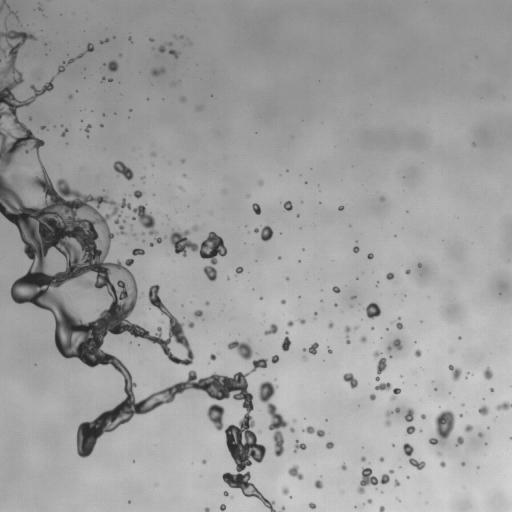droplet: (169, 225, 227, 281), (357, 467, 389, 494), (227, 340, 253, 360), (375, 382, 401, 401), (254, 225, 273, 241), (365, 302, 380, 318), (342, 373, 357, 388), (288, 465, 303, 479), (303, 342, 318, 354), (449, 365, 461, 380), (264, 324, 278, 335), (496, 401, 511, 410), (294, 441, 306, 452), (404, 408, 413, 422), (107, 60, 118, 71), (478, 405, 489, 415), (483, 367, 492, 379), (151, 68, 164, 76), (392, 339, 402, 349), (252, 203, 260, 214), (132, 248, 144, 255), (283, 201, 292, 210), (406, 425, 415, 434), (169, 50, 179, 58), (133, 190, 143, 198), (0, 0, 7, 11), (464, 424, 472, 432), (314, 480, 322, 488), (456, 436, 463, 445), (235, 266, 243, 273), (386, 272, 394, 279), (332, 286, 340, 293), (194, 310, 202, 317), (414, 349, 421, 357), (271, 355, 278, 363), (282, 486, 289, 494), (158, 45, 165, 52), (326, 442, 333, 449), (61, 129, 67, 137), (396, 321, 402, 329), (360, 336, 366, 343), (369, 393, 375, 400), (439, 461, 446, 467), (309, 502, 316, 508), (85, 124, 90, 132), (353, 246, 359, 252), (367, 253, 373, 259), (188, 321, 194, 327), (287, 320, 293, 326), (210, 354, 216, 360), (298, 319, 305, 324), (341, 463, 346, 470), (394, 479, 399, 486), (220, 504, 225, 511), (328, 322, 333, 328), (405, 269, 410, 274), (327, 348, 332, 353), (478, 432, 483, 437), (379, 506, 384, 511), (41, 125, 47, 129), (180, 97, 185, 101), (258, 181, 263, 185), (338, 206, 343, 210), (387, 346, 391, 351), (421, 414, 425, 419), (361, 456, 365, 461), (367, 499, 372, 503), (279, 507, 284, 511), (101, 77, 105, 81), (149, 242, 153, 246), (281, 299, 285, 303), (205, 301, 209, 305), (290, 428, 294, 432), (379, 457, 383, 461), (202, 459, 206, 463), (461, 462, 465, 466), (389, 469, 393, 473), (205, 507, 209, 511), (9, 10, 13, 13), (128, 37, 131, 41), (108, 78, 112, 81), (152, 152, 155, 156), (417, 263, 421, 266), (150, 38, 153, 41), (168, 42, 171, 45), (141, 176, 144, 179), (380, 197, 383, 200), (351, 296, 354, 299), (354, 326, 357, 329), (490, 388, 493, 391), (69, 95, 71, 98), (472, 143, 475, 145), (182, 159, 184, 162), (183, 174, 185, 177), (142, 232, 144, 235), (286, 277, 288, 280), (260, 296, 262, 299), (334, 303, 336, 306), (303, 356, 305, 359), (459, 414, 462, 416), (39, 8, 41, 10), (198, 107, 200, 109), (100, 124, 102, 126), (180, 187, 182, 189), (123, 220, 125, 222), (278, 257, 280, 259), (398, 317, 400, 319), (438, 453, 440, 455)
ligament: (0, 32, 276, 511), (258, 381, 287, 456), (57, 43, 93, 73), (429, 410, 455, 444), (403, 443, 425, 469), (373, 350, 386, 380), (113, 161, 133, 180), (384, 407, 399, 426), (304, 426, 324, 437), (281, 333, 290, 351), (344, 326, 350, 343), (223, 491, 232, 497), (100, 38, 108, 43), (510, 436, 511, 439)
